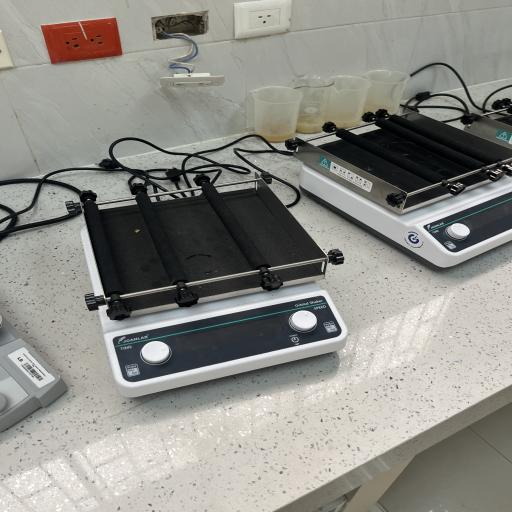Agitador_Orbital_DLAB: (55, 170, 362, 406)
